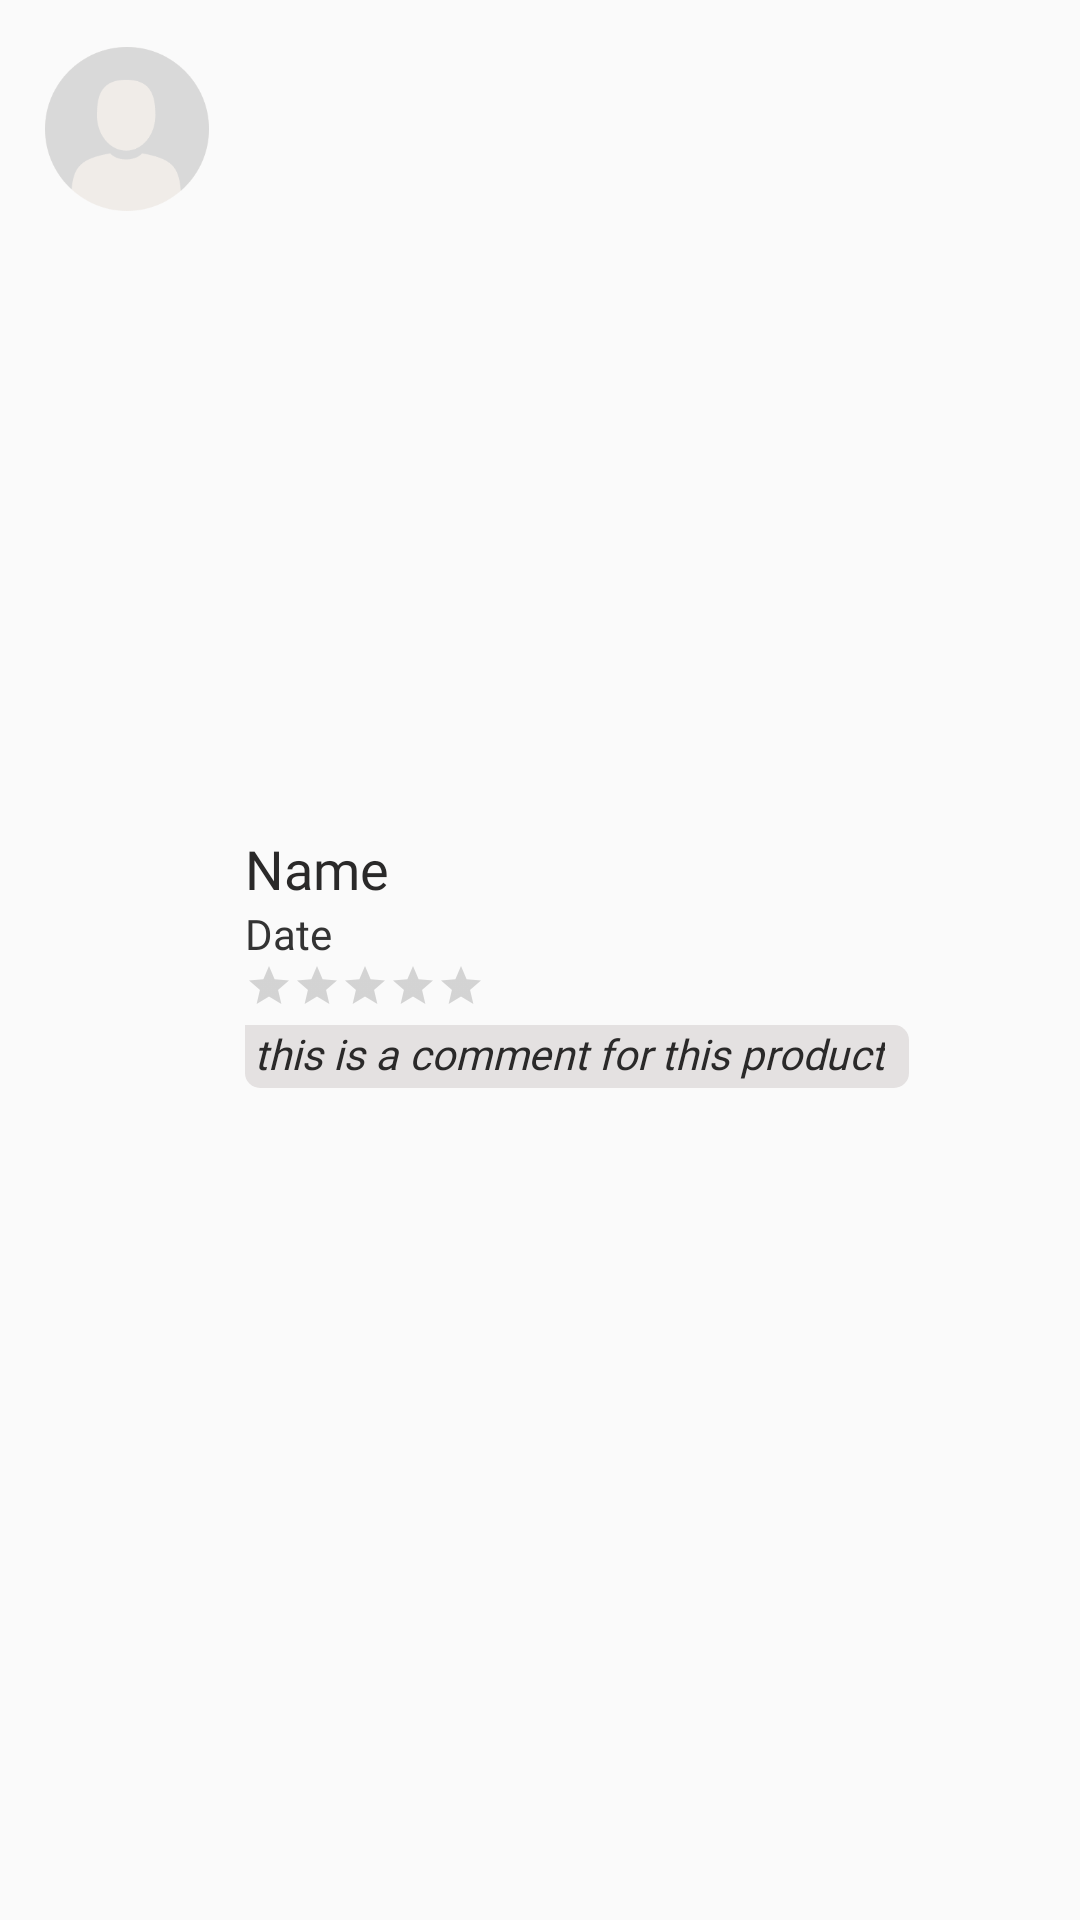

Screen size 1080px x 1920px. Icon name, then its center in pixels as point (x, y):
userprofile: point (127, 118)
